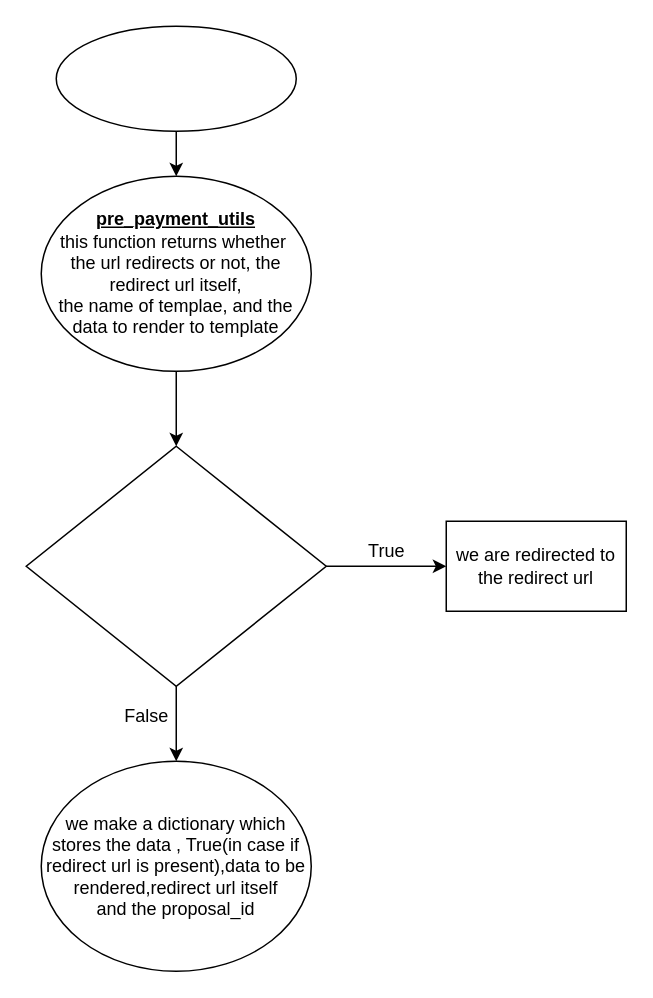
Image size: 653x998. Some labels were removed from this diagram. Here are the shapes that lost their labels. From the top down, the box of each, then its label:
(55, 25, 296, 131): ProposalProcessView
(25, 445, 326, 686): if redirect url exists
